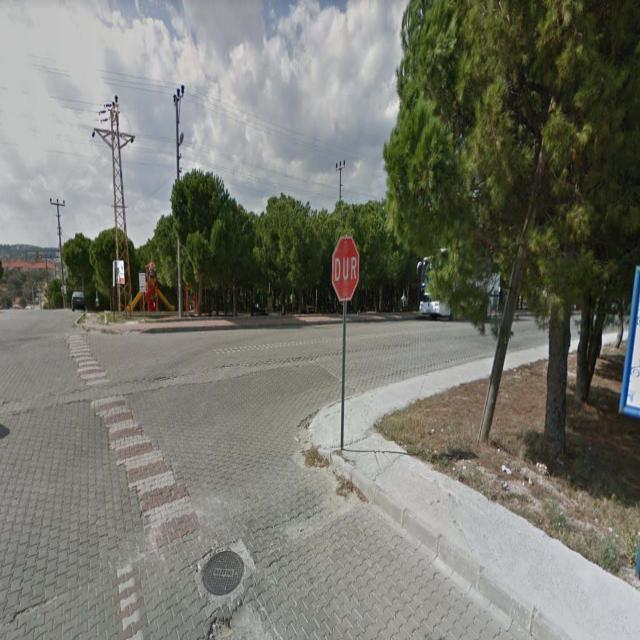dur: (331, 238, 360, 299)
